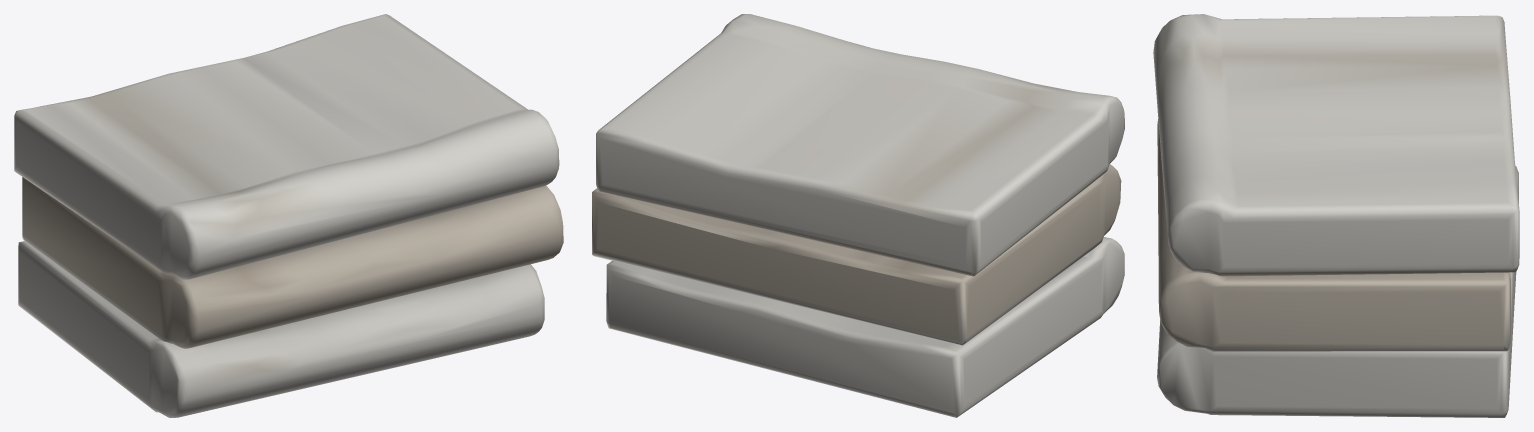
Rendered from towels-lightweight-ebb5b2874f.glb.
3 views of the same model, side by side, from view 1: azimuth 30°, elevation 25°; view 2: azimuth 150°, elevation 25°; view 3: azimuth 270°, elevation 25° (orthographic). The views are drawn at different scales.
Parts seen in each view (by area): view 1: towels; view 2: towels; view 3: towels.
Boxes of the visible parts, x1=… form: towels: x1=14, y1=14, x2=563, y2=417; towels: x1=592, y1=14, x2=1124, y2=417; towels: x1=1153, y1=14, x2=1519, y2=417.
Size of the model in its own units: 0.3358 by 0.174 by 0.2596.
